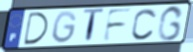C: (130, 7, 159, 41)
D: (23, 12, 50, 46)
F: (101, 7, 134, 43)
G: (156, 4, 185, 42), (51, 9, 79, 45)
T: (82, 7, 106, 45)
